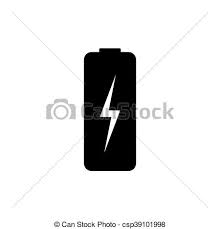charging sign: (70, 39, 165, 181)
